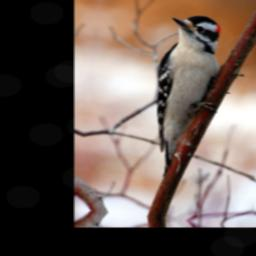Woodpecker: (145, 11, 229, 182)
